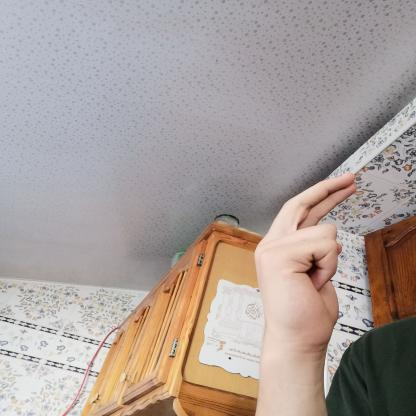ZAY: (241, 166, 370, 360)
